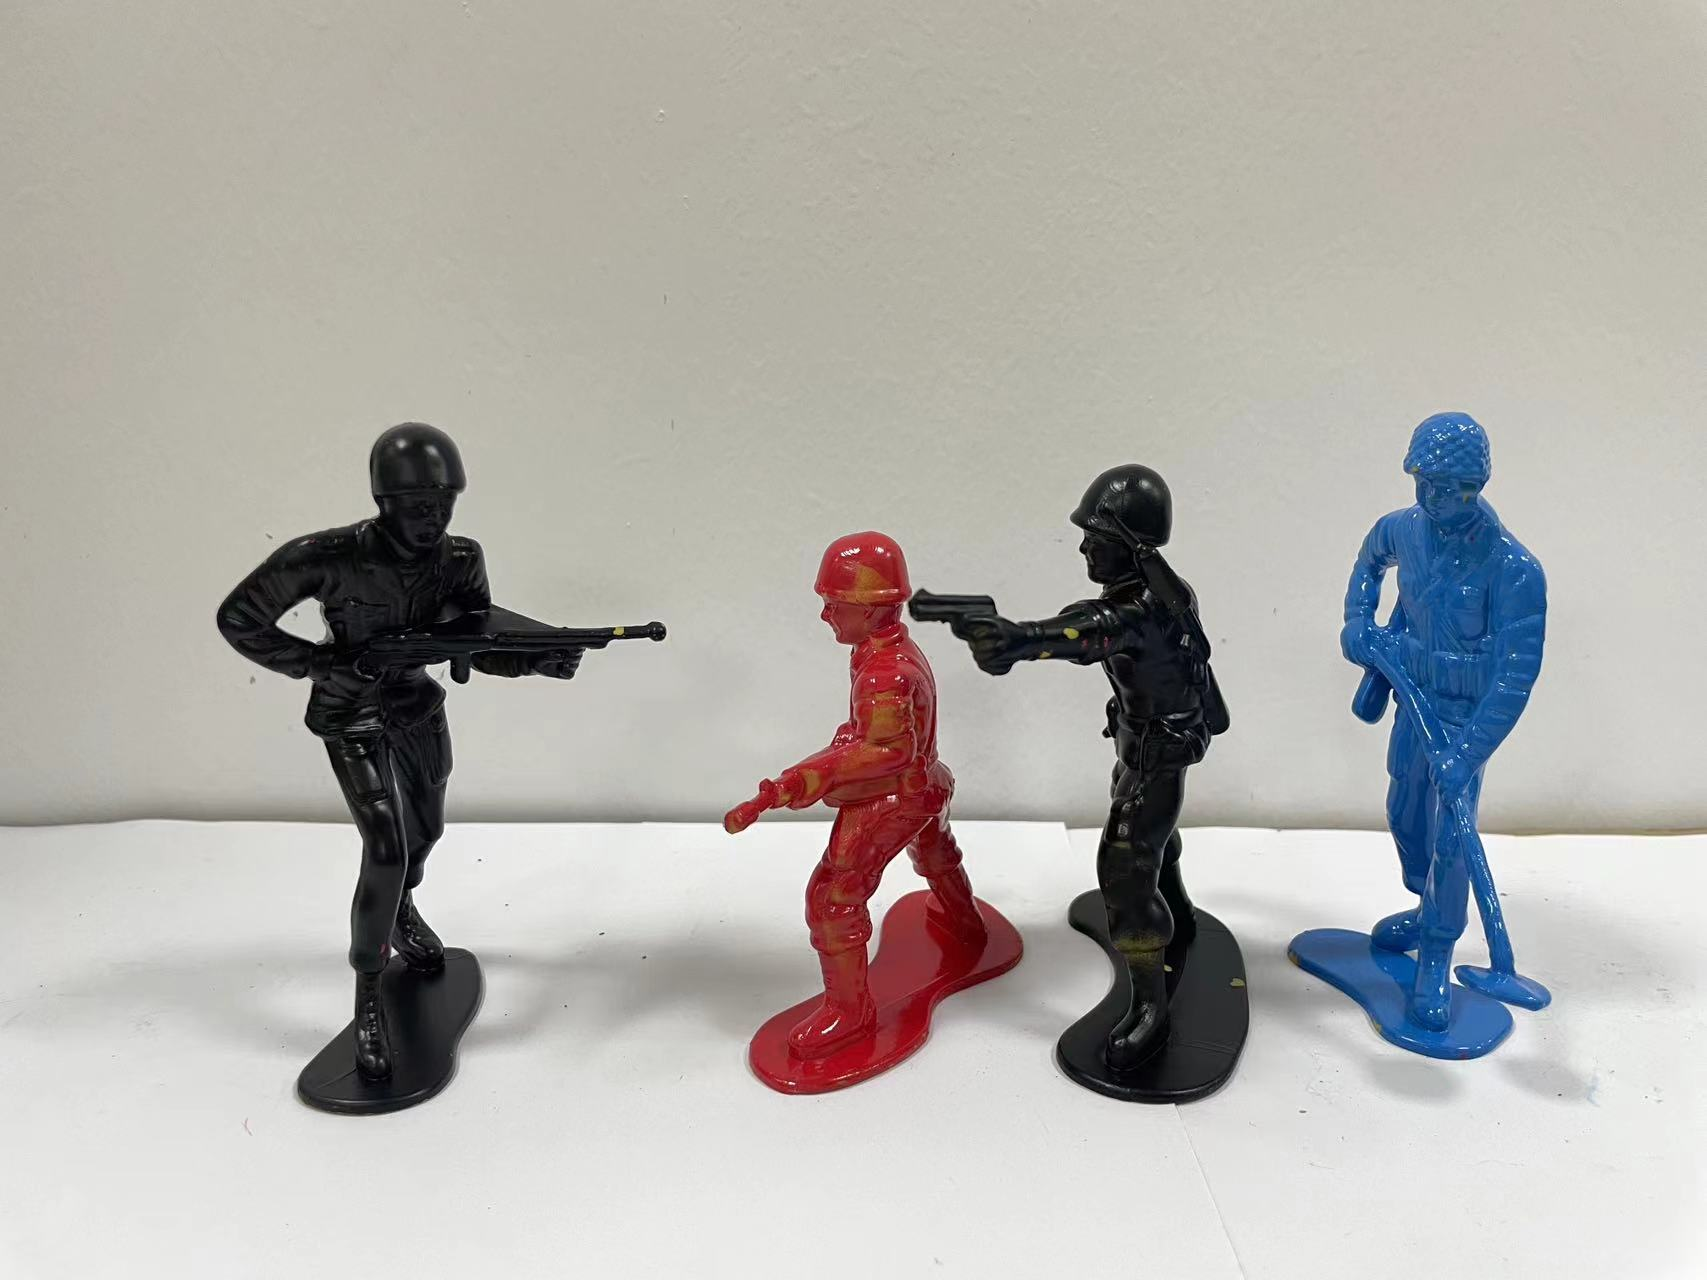black: (130, 401, 679, 1158), (966, 418, 1278, 1137)
blue: (1274, 386, 1620, 1096)
red: (706, 489, 1005, 1089)
